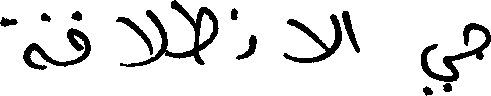ا: (341, 9, 364, 54)
ة: (0, 10, 48, 70)
ح: (462, 20, 489, 60)
ط: (171, 0, 216, 66)
ق: (44, 9, 90, 67)
لا: (281, 11, 341, 63), (117, 7, 167, 67)
ن: (228, 5, 255, 60)
ي: (418, 42, 458, 94)
